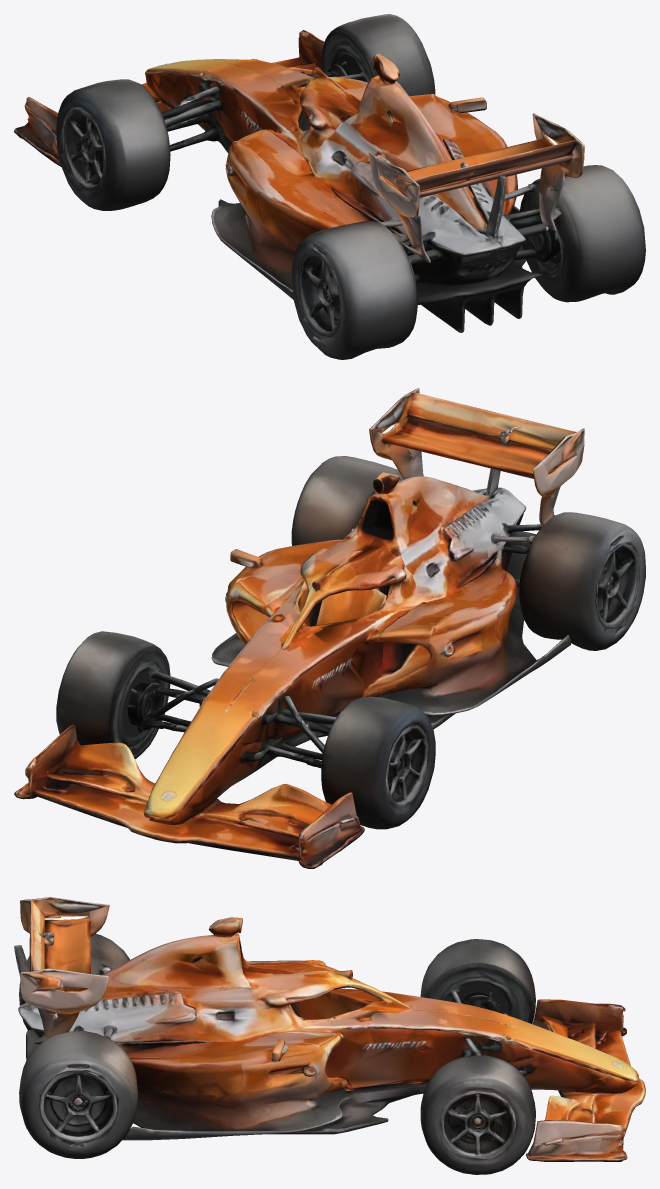
File: mono.glb
3 renders of one model, top to bottom at view 1: azimuth 30°, elevation 25°; view 2: azimuth 150°, elevation 25°; view 3: azimuth 270°, elevation 25°, orthographic. The views are drawn at different scales.
Visible parts, largest first — view 1: body, wheel_rl, wheel_rr, wheel_fl, wheel_fr; view 2: body, wheel_rl, wheel_fl, wheel_fr, wheel_rr; view 3: body, wheel_rr, wheel_fr, wheel_fl, wheel_rl.
Part boxes in pixels (bbox=[...]): body: bbox=[14, 14, 598, 332]; wheel_rl: bbox=[291, 221, 417, 359]; wheel_rr: bbox=[532, 165, 645, 302]; wheel_fl: bbox=[56, 79, 170, 210]; wheel_fr: bbox=[321, 16, 435, 94]; body: bbox=[14, 388, 609, 868]; wheel_rl: bbox=[520, 512, 645, 650]; wheel_fl: bbox=[321, 697, 435, 829]; wheel_fr: bbox=[56, 633, 170, 758]; wheel_rr: bbox=[291, 456, 399, 545]; body: bbox=[14, 897, 645, 1161]; wheel_rr: bbox=[19, 1031, 137, 1158]; wheel_fr: bbox=[422, 1055, 535, 1174]; wheel_fl: bbox=[424, 939, 535, 1023]; wheel_rl: bbox=[19, 934, 122, 1030].
Size of the model in its own units: 2.32 by 1.44 by 4.3.
2 materials, 1 textured.
